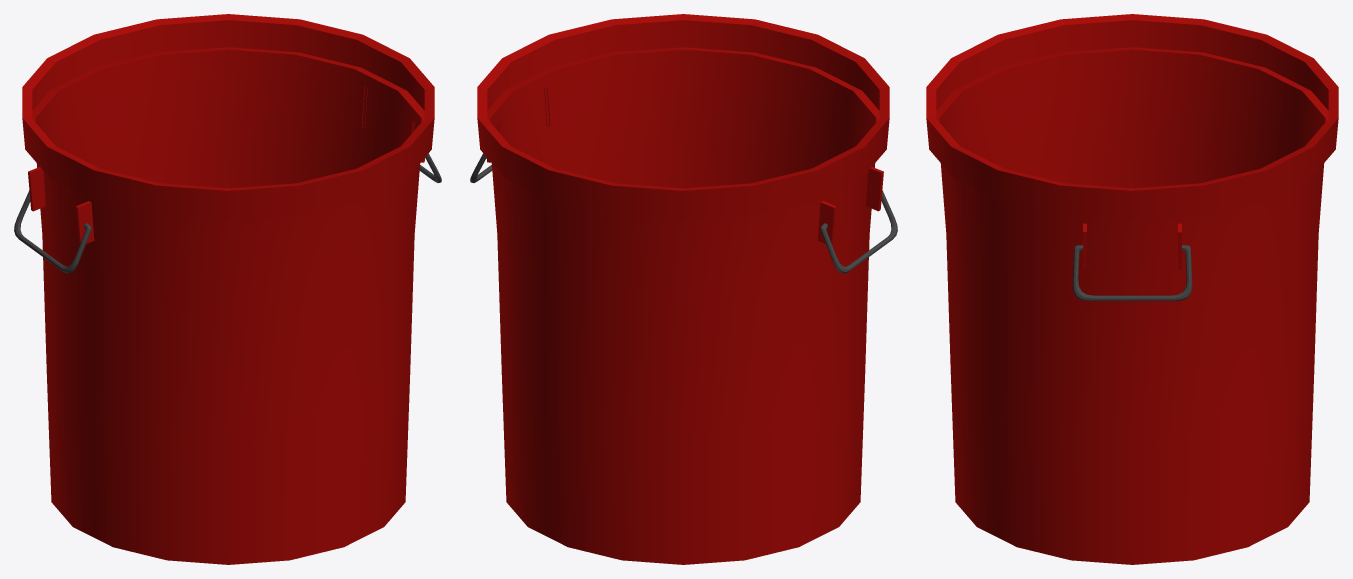
Rendered from trashcan_K.fbx.
3 views of the same model, side by side, from view 1: azimuth 30°, elevation 25°; view 2: azimuth 150°, elevation 25°; view 3: azimuth 270°, elevation 25° (orthographic).
Visible parts, largest first — view 1: Box004; view 2: Box004; view 3: Box004.
Part boxes in pixels (box(x1,y1,x2,y2)): Box004: box(14, 14, 441, 564); Box004: box(470, 14, 897, 564); Box004: box(926, 14, 1338, 564).
Bounding box in the file's own units: 66.97 × 65.87 × 63.69.
